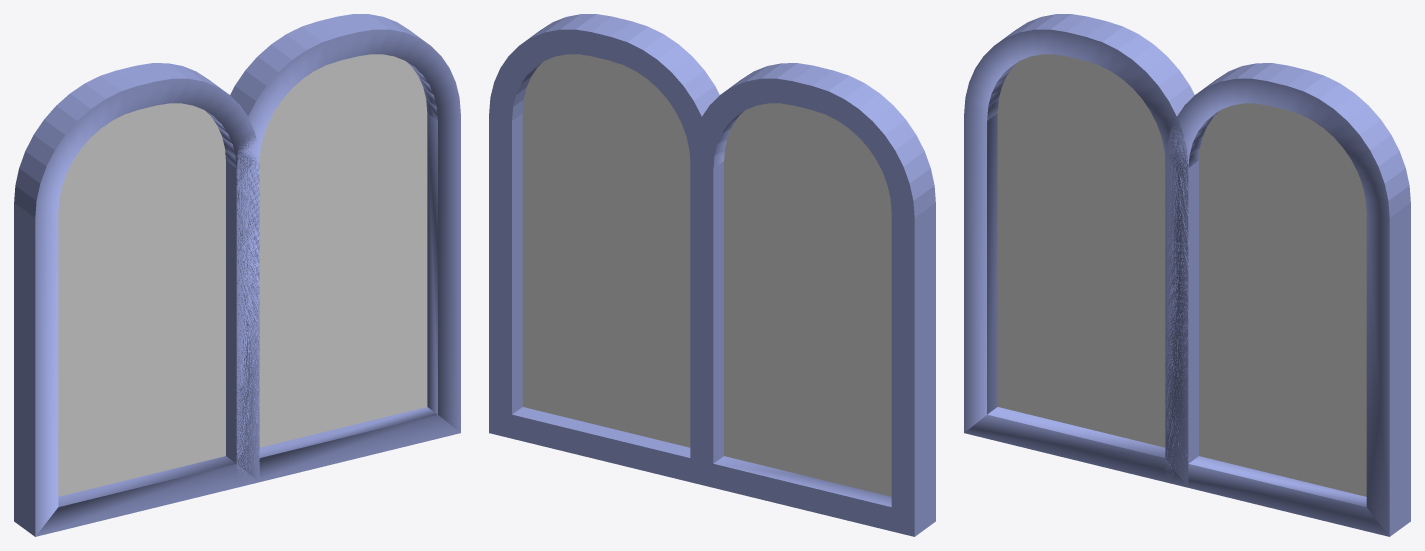
The model's file is Doors 1.fbx.
3 views of the same model, side by side, from view 1: azimuth 30°, elevation 25°; view 2: azimuth 150°, elevation 25°; view 3: azimuth 330°, elevation 25° (orthographic).
Visible parts, largest first — view 1: Door Curved; view 2: Door Curved; view 3: Door Curved.
Boxes of the visible parts, box(x1,y1,x2,y2) form: Door Curved: box(14, 14, 460, 536); Door Curved: box(489, 14, 935, 536); Door Curved: box(964, 14, 1410, 536).
Bounding box in the file's own units: 473 × 453 × 40.83.
